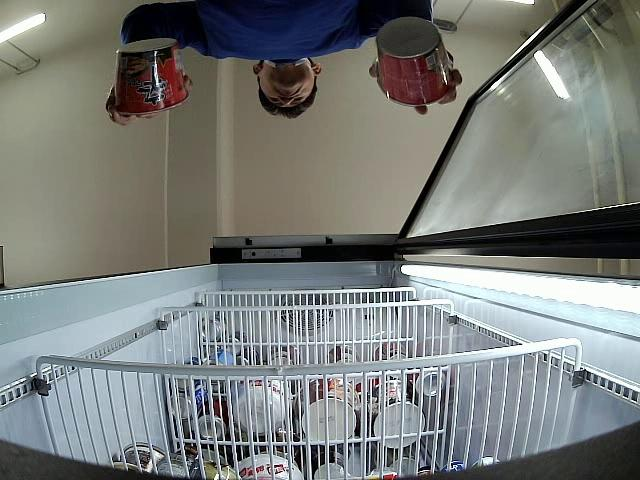00_hand: (368, 47, 463, 116), (105, 77, 194, 125)
01_shinRamen_L: (376, 17, 456, 106), (115, 39, 189, 116)
